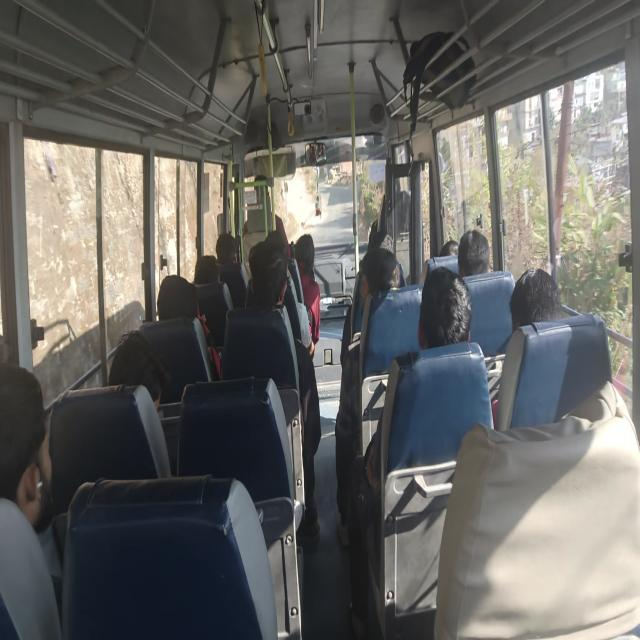person: (433, 380, 640, 638), (350, 265, 493, 636), (364, 266, 472, 492), (244, 236, 321, 537), (335, 244, 402, 546), (0, 362, 62, 638), (490, 267, 565, 424), (340, 246, 400, 369), (156, 274, 221, 379), (108, 329, 170, 413), (417, 266, 472, 349), (509, 267, 563, 331), (294, 232, 320, 348), (215, 231, 248, 308), (457, 228, 491, 276), (193, 254, 220, 284), (215, 232, 238, 264), (439, 240, 459, 256)
